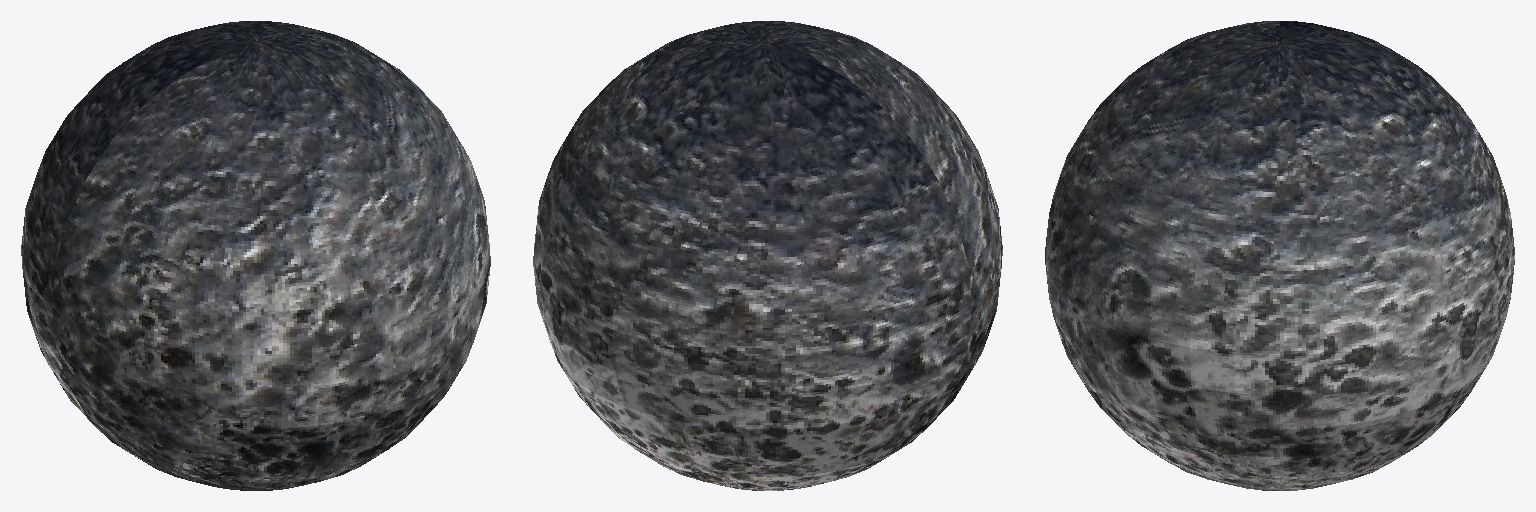
3 renders of one model, left to right at view 1: azimuth 30°, elevation 25°; view 2: azimuth 150°, elevation 25°; view 3: azimuth 270°, elevation 25°, orthographic.
Visible parts, largest first — view 1: Cube; view 2: Cube; view 3: Cube.
Boxes of the visible parts, x1=… form: Cube: x1=21, y1=21, x2=490, y2=490; Cube: x1=533, y1=21, x2=1002, y2=490; Cube: x1=1045, y1=21, x2=1514, y2=490.
Size of the model in its own units: 2 by 2 by 2.
Materials: 1 (1 with a texture image).